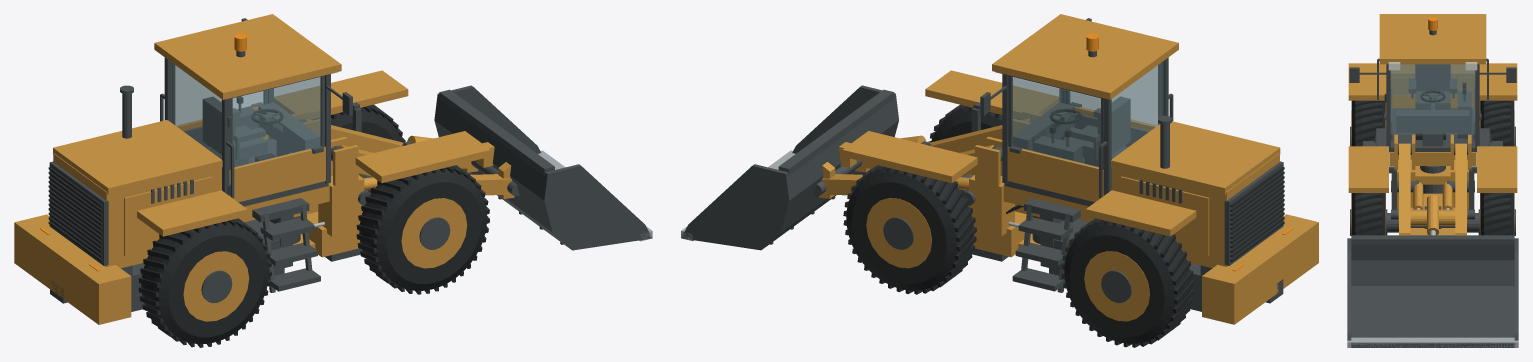
3 views of the same model, side by side, from view 1: azimuth 30°, elevation 25°; view 2: azimuth 150°, elevation 25°; view 3: azimuth 270°, elevation 25° (orthographic). The views are drawn at different scales.
Parts seen in each view (by area): view 1: Cab_roof, Front_R, Rear_R, Engine_top, Counterweight, Door_glass, Bucket_cheek_-1.43175, Fender_1.4_-1.1, Bucket_shell, Door_lower, Rear_window, Fender_-1.95_-1.1 (+31 smaller); view 2: Cab_roof, Front_L, Rear_L, Engine_top, Counterweight, Fixed_cab_side_glass, Bucket_cheek_1.43175, Fender_1.4_1.1, Bucket_shell, Fixed_cab_side_lower, Rear_window, Fender_-1.95_1.1 (+30 smaller); view 3: Bucket_shell, Front_windshield, Cab_roof, Fender_1.4_-1.1, Fender_1.4_1.1, Dashboard, Bucket_top_edge, Cutting_edge, Fender_-1.95_1.1, Fender_-1.95_-1.1, Rear_window, Lift_arm_-0.48 (+35 smaller).
Part boxes in pixels (x1,y1,x2,y2): Cab_roof: (154, 14, 341, 99); Front_R: (359, 168, 487, 290); Rear_R: (141, 221, 269, 343); Engine_top: (53, 120, 222, 194); Counterweight: (14, 214, 131, 324); Door_glass: (233, 77, 321, 167); Bucket_cheek_-1.43175: (542, 164, 652, 250); Fender_1.4_-1.1: (355, 131, 490, 183); Bucket_shell: (437, 99, 568, 247); Door_lower: (229, 146, 325, 202); Rear_window: (169, 61, 221, 158); Fender_-1.95_-1.1: (137, 190, 247, 236); Cab_roof: (992, 14, 1178, 99); Front_L: (846, 167, 973, 290); Rear_L: (1064, 220, 1191, 343); Engine_top: (1111, 121, 1280, 194); Counterweight: (1202, 214, 1318, 324); Fixed_cab_side_glass: (1012, 77, 1100, 167); Bucket_cheek_1.43175: (681, 164, 791, 250); Fender_1.4_1.1: (842, 131, 977, 183); Bucket_shell: (765, 99, 896, 247); Fixed_cab_side_lower: (1007, 147, 1103, 201); Rear_window: (1112, 61, 1163, 158); Fender_-1.95_1.1: (1086, 190, 1196, 236); Bucket_shell: (1351, 244, 1514, 347); Front_windshield: (1391, 64, 1474, 133); Cab_roof: (1379, 14, 1486, 64); Fender_1.4_-1.1: (1348, 146, 1388, 192); Fender_1.4_1.1: (1477, 146, 1517, 192); Dashboard: (1396, 110, 1469, 132); Bucket_top_edge: (1351, 235, 1514, 244); Cutting_edge: (1347, 337, 1518, 347); Fender_-1.95_1.1: (1479, 63, 1517, 100); Fender_-1.95_-1.1: (1348, 63, 1386, 100); Rear_window: (1391, 64, 1474, 95); Lift_arm_-0.48: (1399, 143, 1410, 234).
Bounding box in the file's own units: 8.31 × 3.74 × 2.93.
